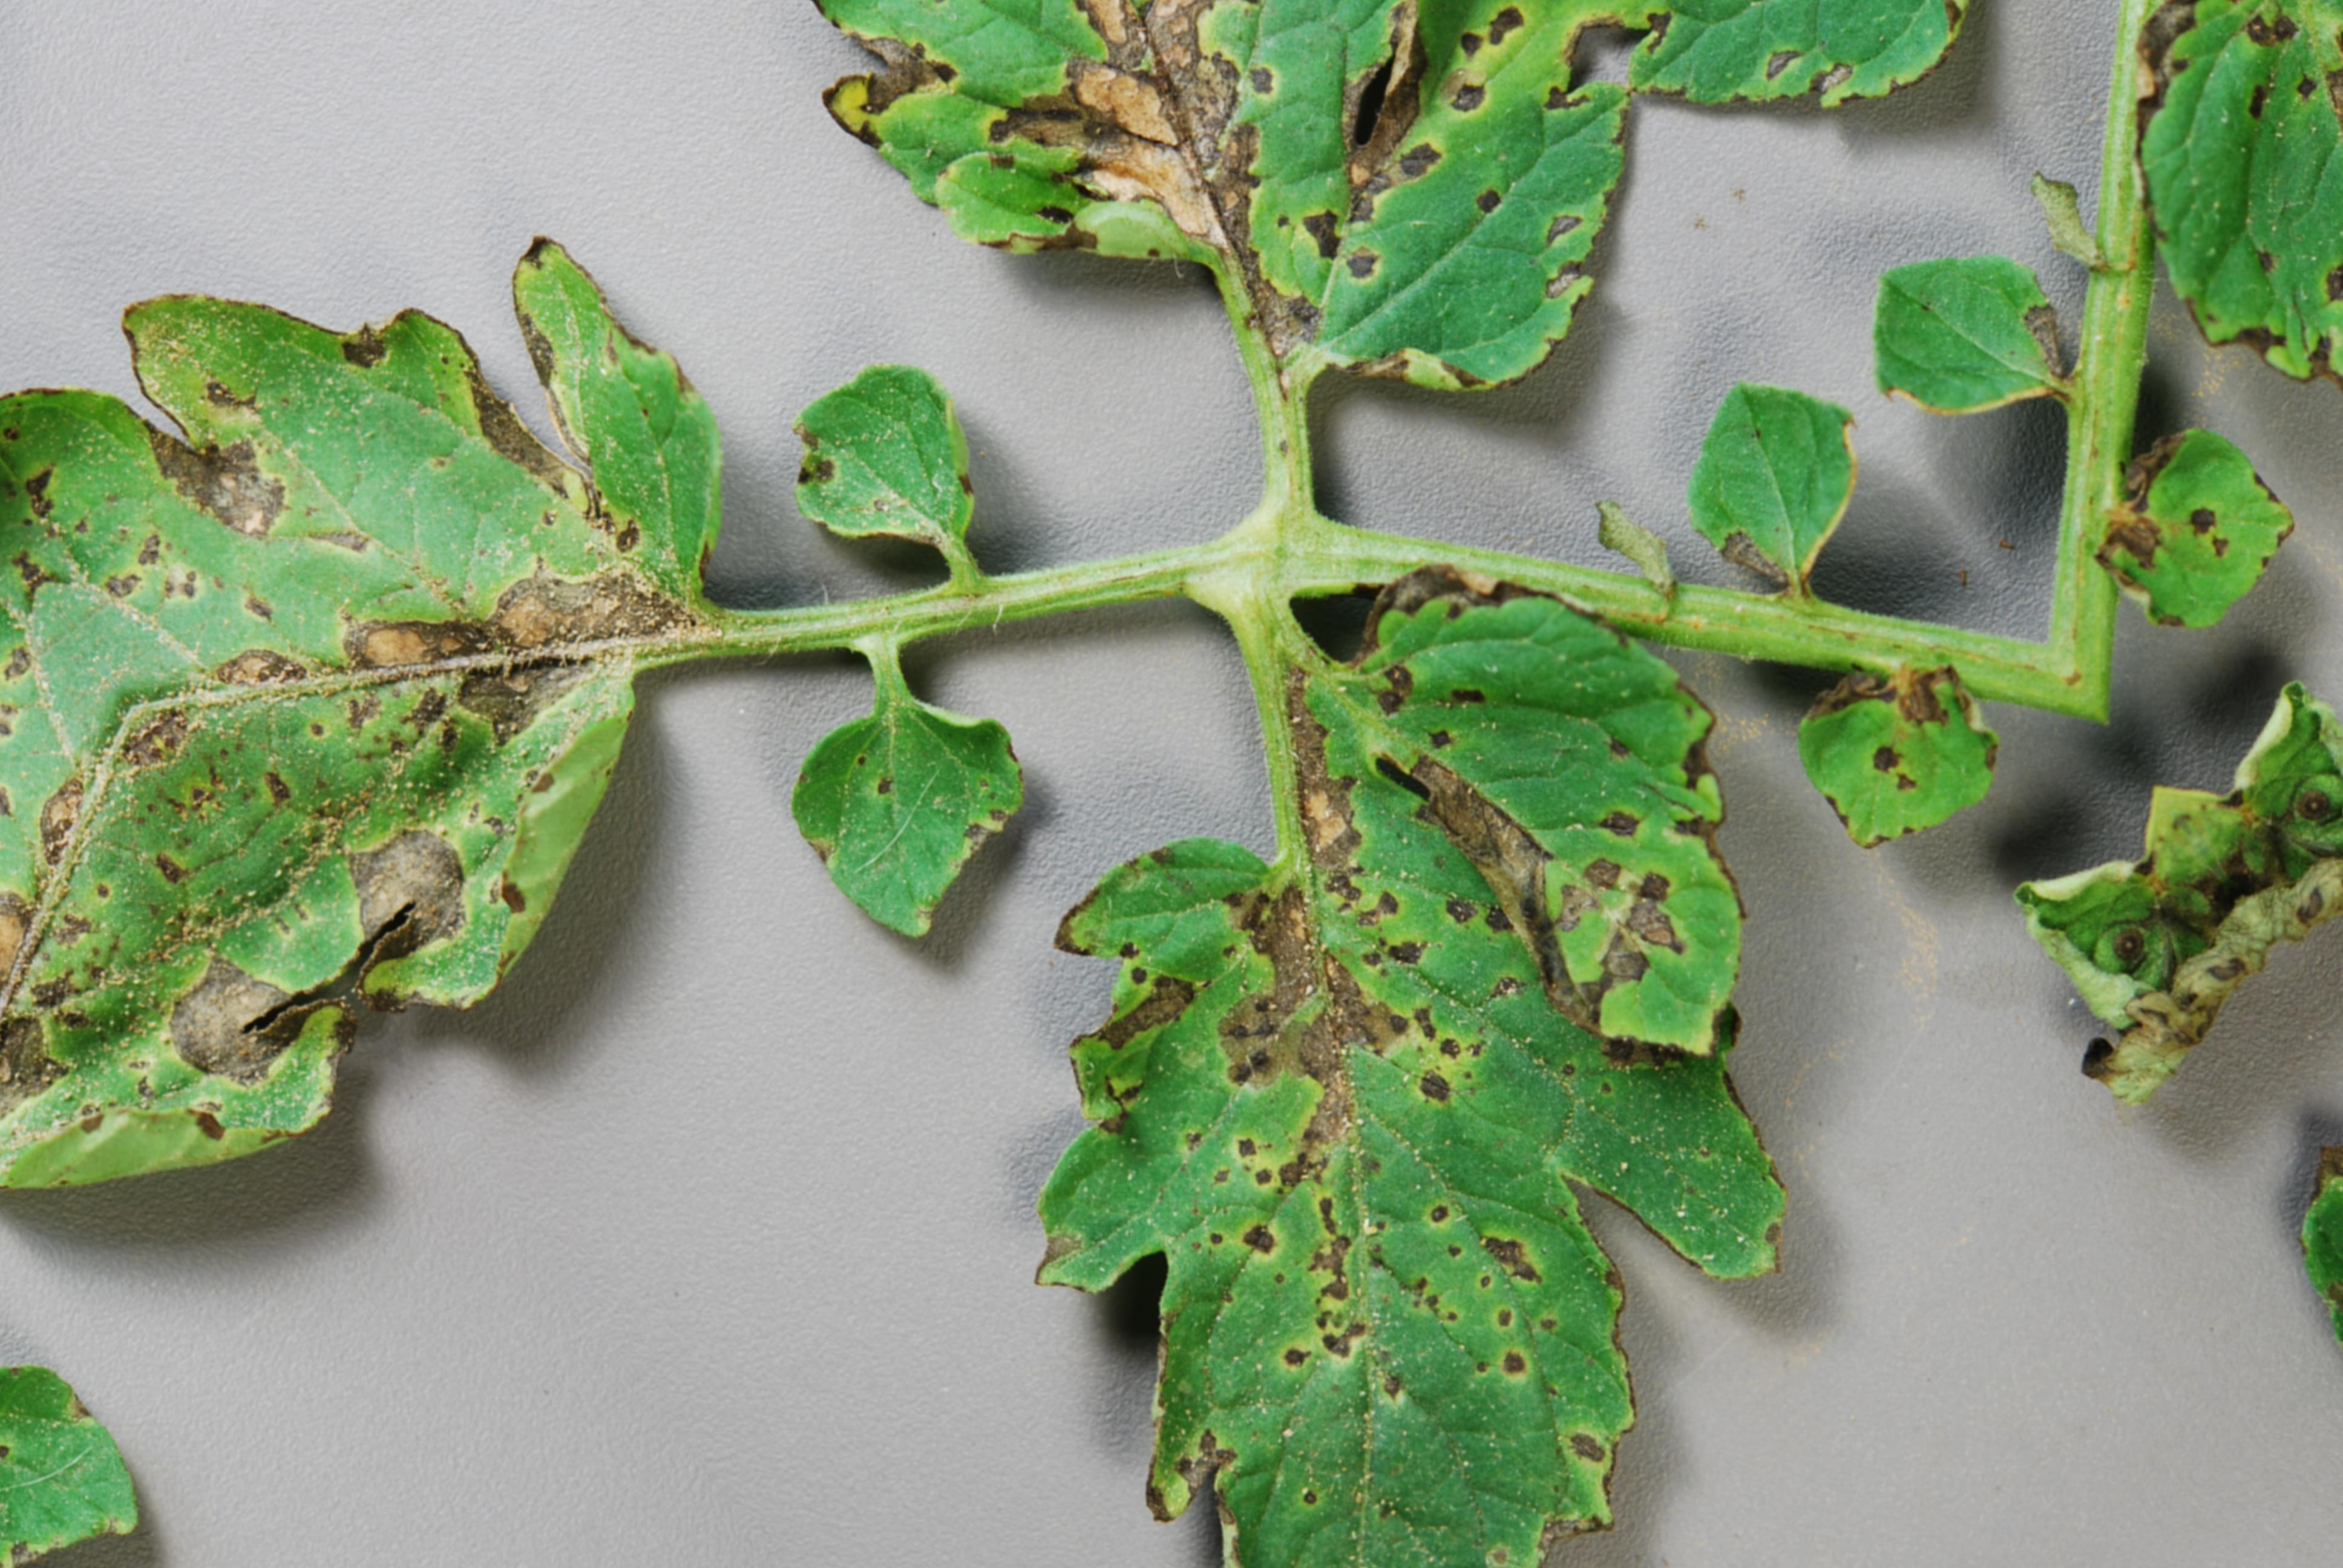Tomato Septoria leaf spot: (675, 577, 2016, 1568), (0, 0, 1055, 1087), (544, 0, 1750, 667), (1246, 465, 1899, 1169), (700, 616, 1116, 1045)
